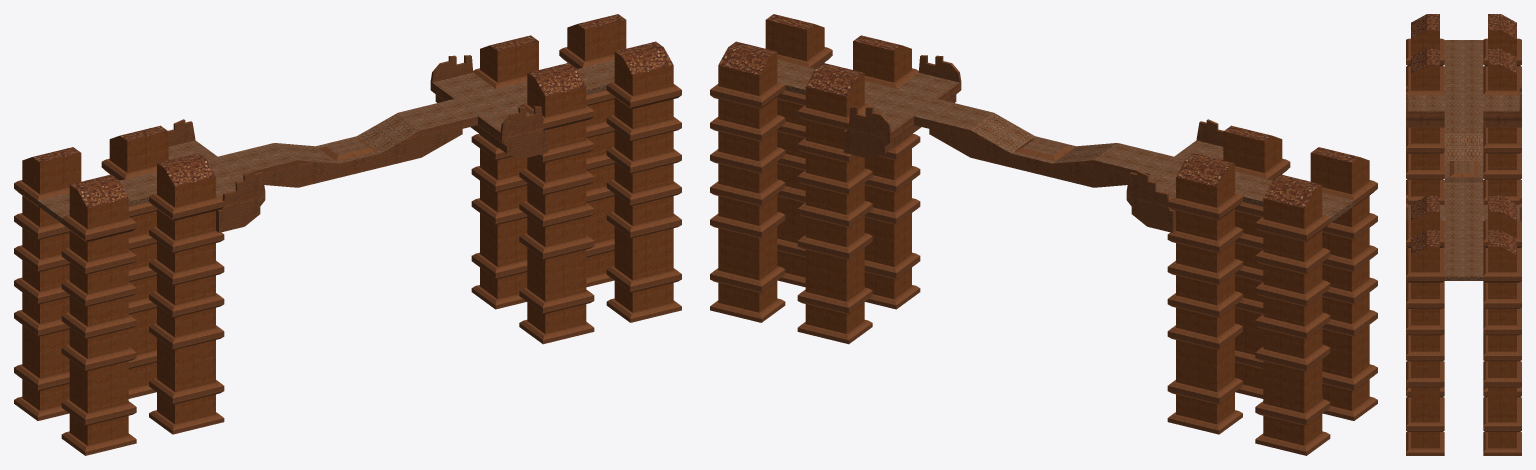
File: CrossArch.fbx
3 renders of one model, left to right at view 1: azimuth 30°, elevation 25°; view 2: azimuth 150°, elevation 25°; view 3: azimuth 270°, elevation 25°, orthographic. The views are drawn at different scales.
Parts seen in each view (by area): view 1: Object; view 2: Object; view 3: Object.
Part boxes in pixels (bbox=[...]): Object: bbox=[14, 14, 681, 455]; Object: bbox=[710, 14, 1377, 455]; Object: bbox=[1406, 14, 1521, 455].
Size of the model in its own units: 23200 by 9475 by 4800.
